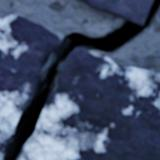brick: (82, 0, 153, 24)
broken_brick: (20, 47, 159, 159), (0, 12, 60, 159)
crack: (2, 0, 159, 159)
